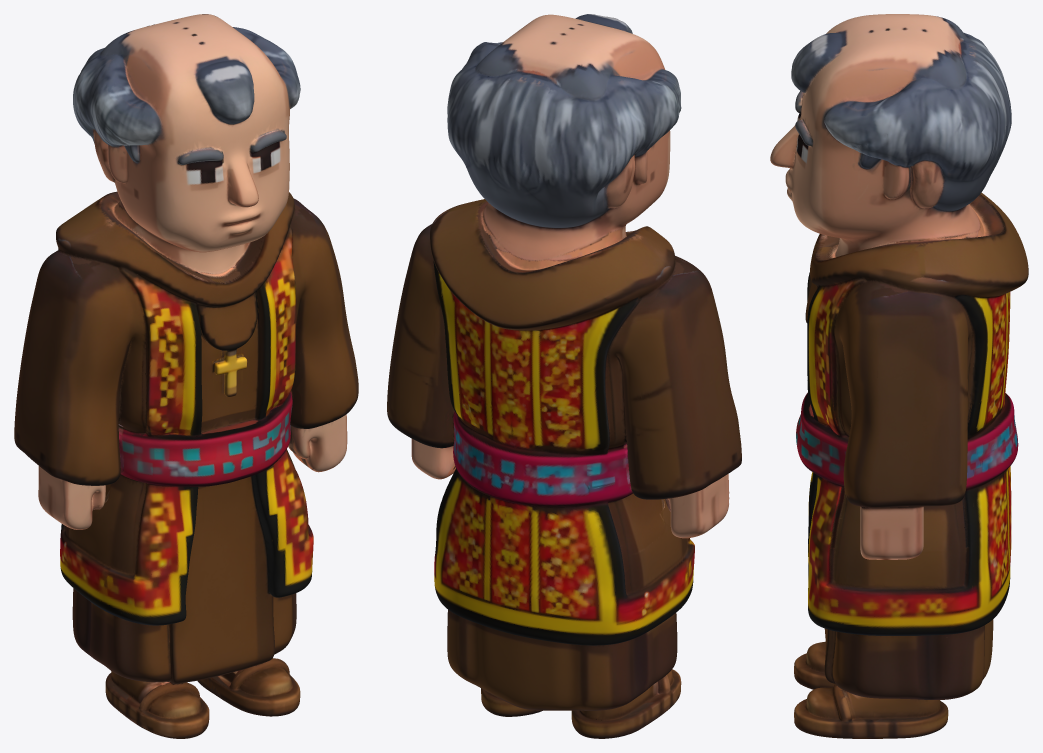
The model's file is monk.glb.
3 renders of one model, left to right at view 1: azimuth 30°, elevation 25°; view 2: azimuth 150°, elevation 25°; view 3: azimuth 270°, elevation 25°, orthographic. The views are drawn at different scales.
Size of the model in its own units: 0.9338 by 1.9 by 0.6603.
Materials: 1 (1 with a texture image).
